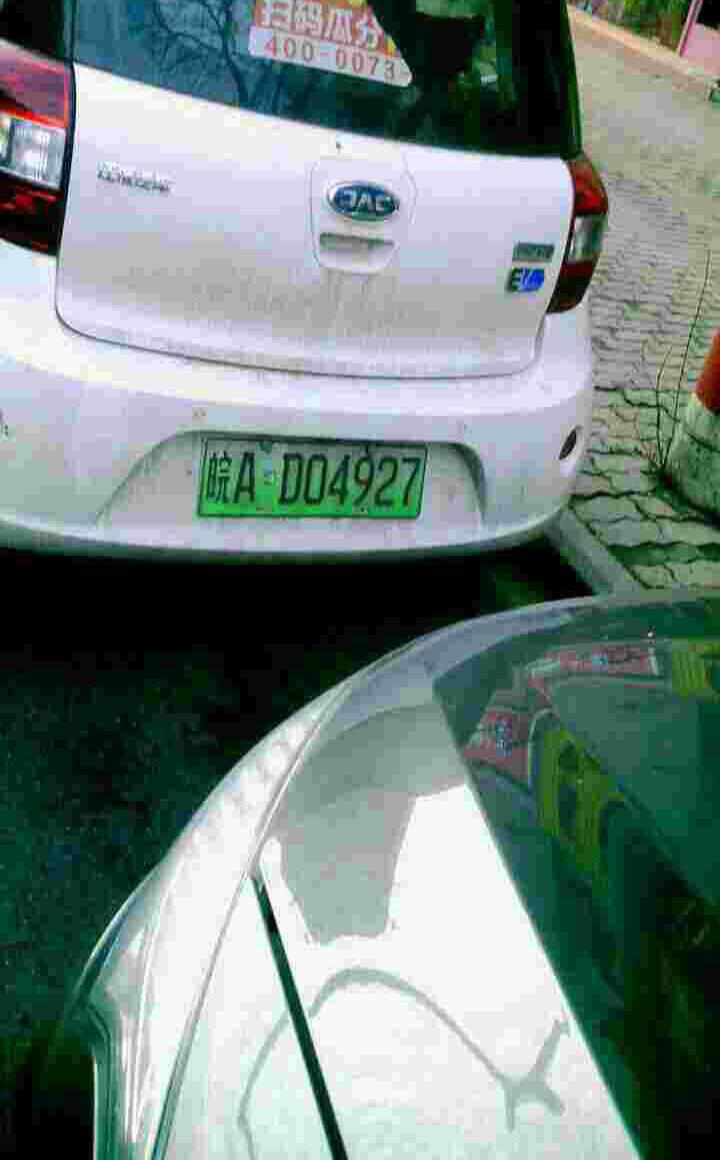car_id: (193, 442, 427, 513)
